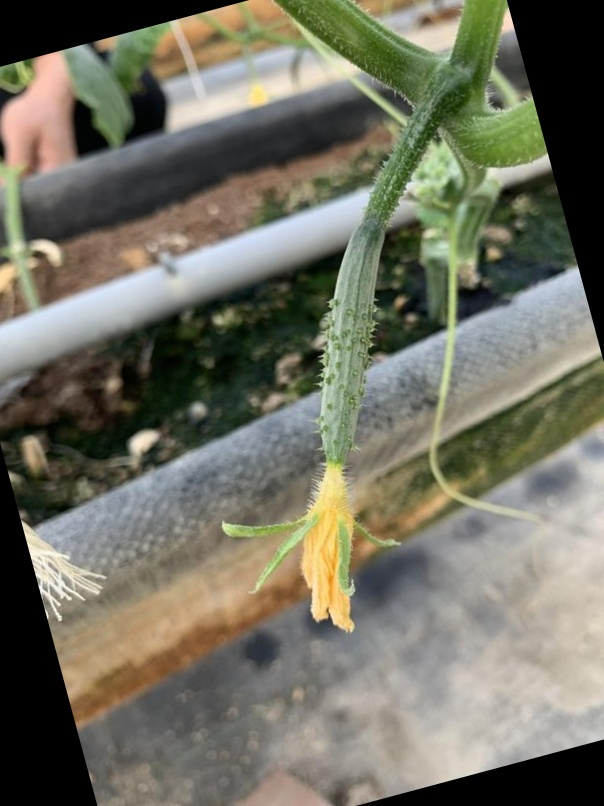bear: (219, 199, 459, 646)
